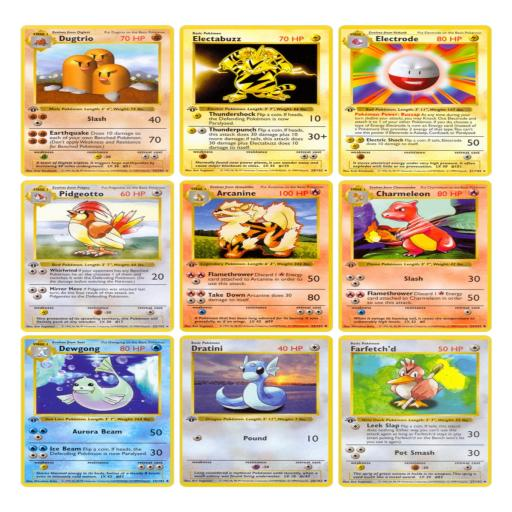card: (20, 179, 175, 332), (338, 179, 493, 332), (179, 25, 334, 178), (339, 334, 493, 487), (21, 335, 175, 488), (338, 25, 493, 177), (20, 25, 174, 177), (179, 336, 334, 487), (180, 180, 333, 332)
